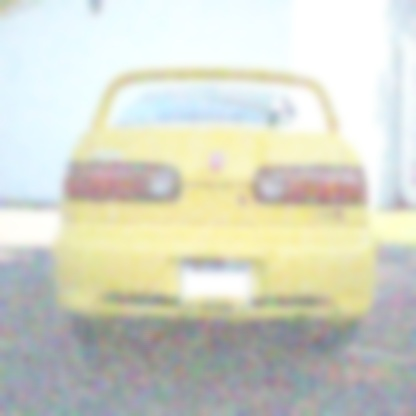Vehicle: (53, 69, 377, 354)
